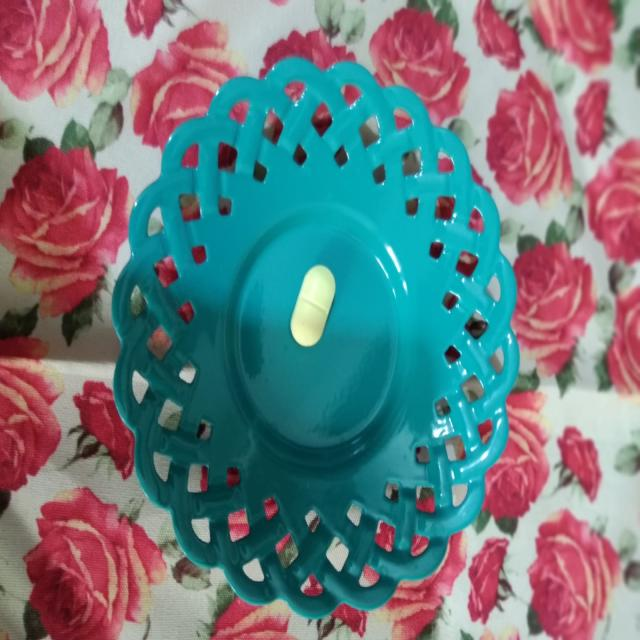pills: (282, 250, 345, 354)
